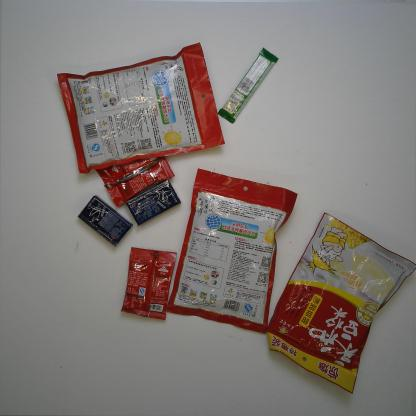Chocolate: (216, 44, 278, 125)
Gum: (76, 194, 134, 247), (126, 180, 180, 226)
Instant Drink: (263, 210, 416, 395), (54, 41, 229, 175), (166, 167, 298, 337), (94, 140, 176, 208), (119, 246, 178, 322)
